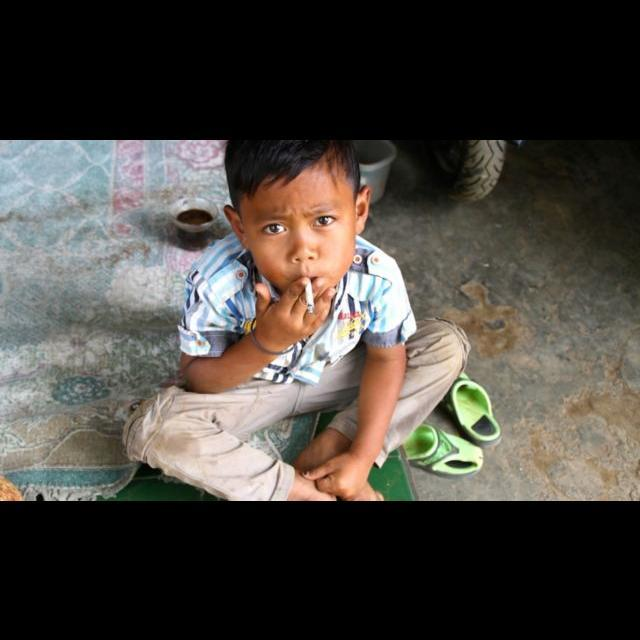rokok: (301, 276, 319, 316)
